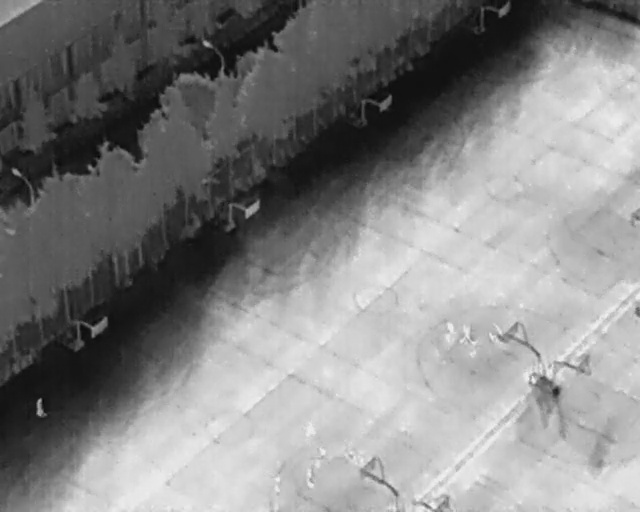Person: (460, 324, 476, 345), (443, 321, 456, 345), (34, 397, 48, 418), (344, 446, 358, 464), (304, 469, 316, 489), (271, 475, 283, 495), (303, 420, 316, 437), (315, 446, 329, 460)
